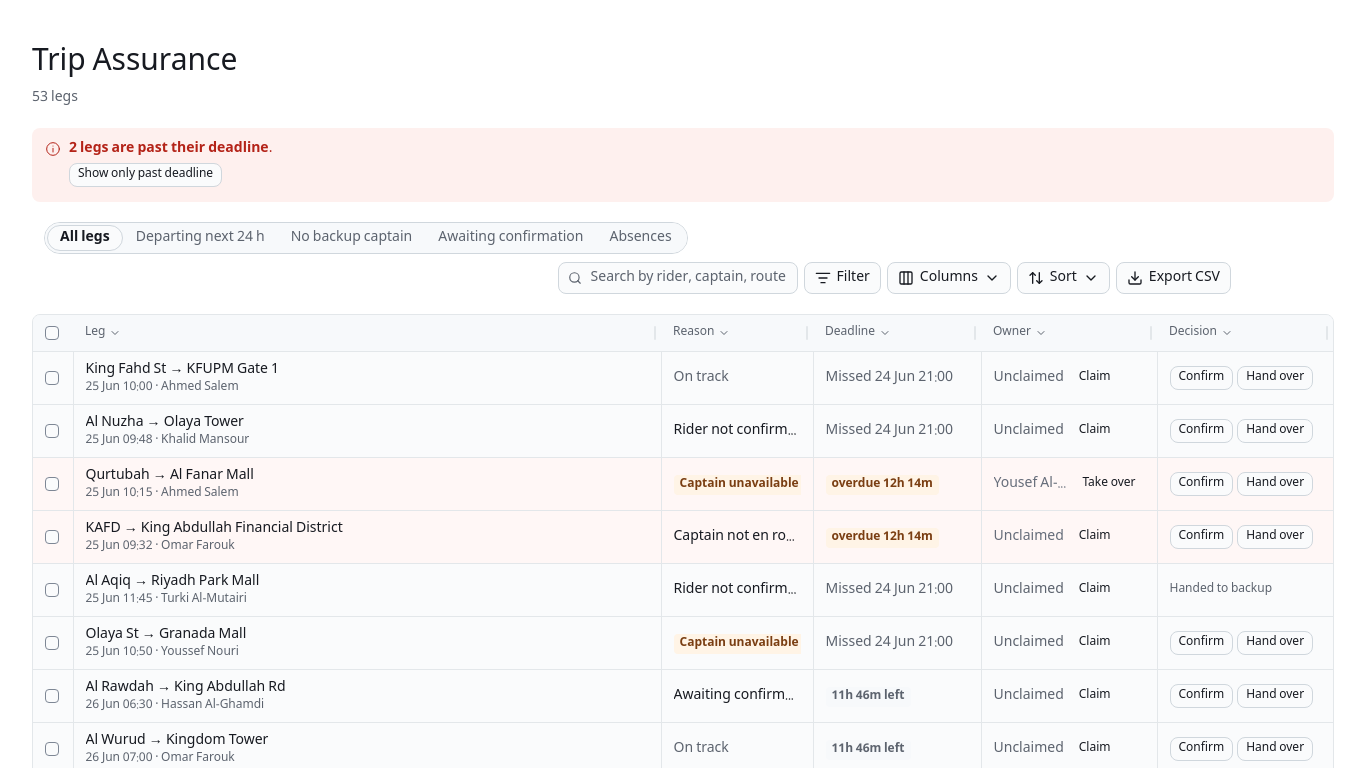
Test case: §4.11 — the four states › AC-235 — empty: a search matching nothing states so rather than claiming the queue is clear
Type "zzzznotaleg" into the field with placeholder "Search by rider, captain, route or subscription" at [678, 278], box [558, 262, 798, 294]
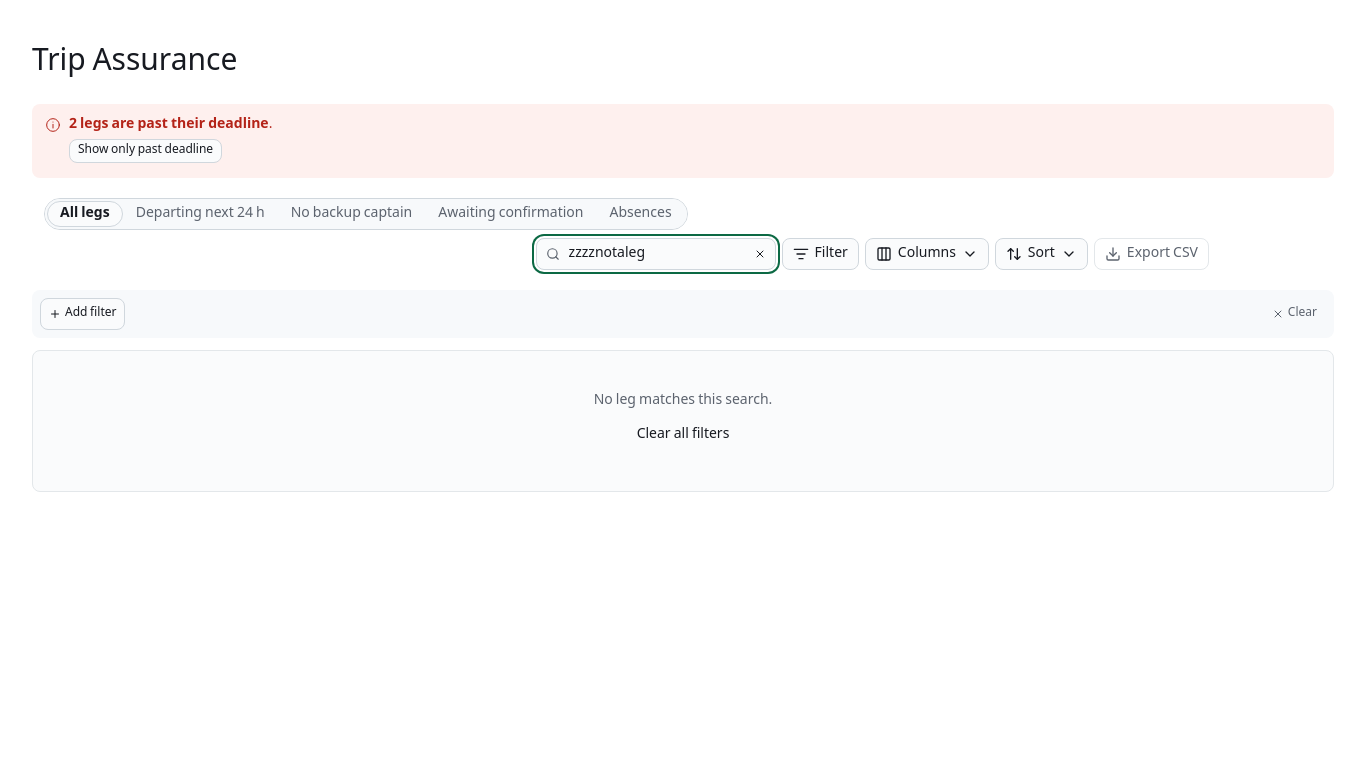
Now the text "No leg matches this search." is shown, box [594, 391, 772, 411]
